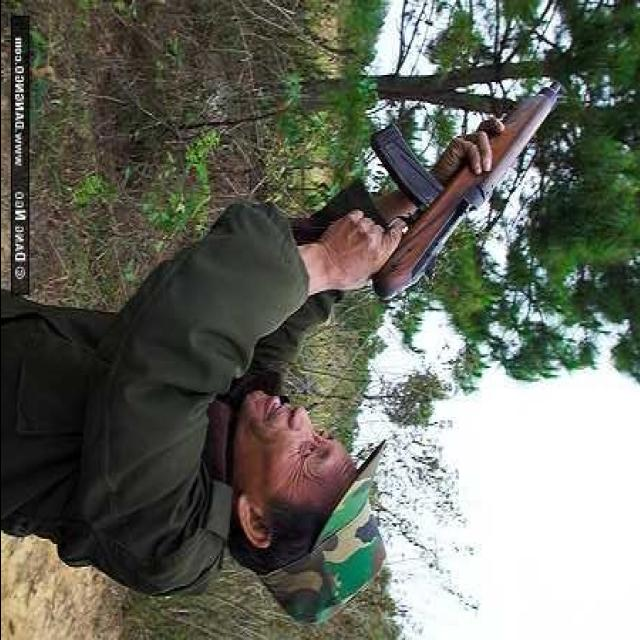heavyweapon: (310, 62, 578, 298)
